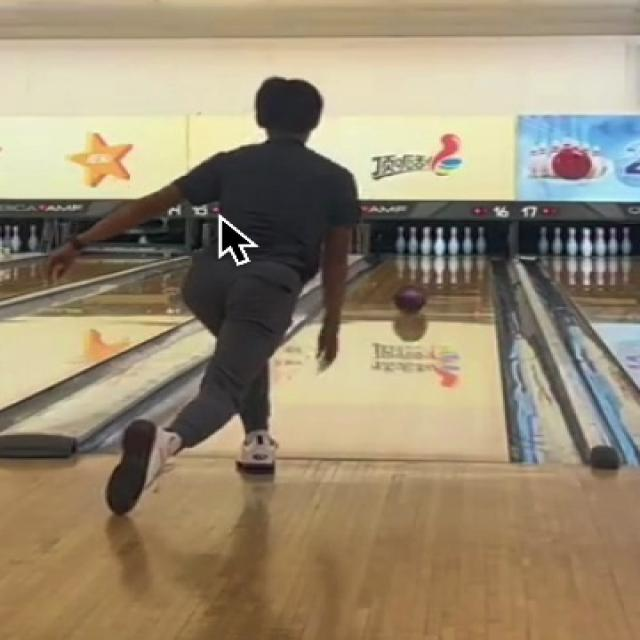alley: (270, 256, 507, 458)
balls: (395, 287, 425, 314)
bottle: (388, 225, 485, 255)
